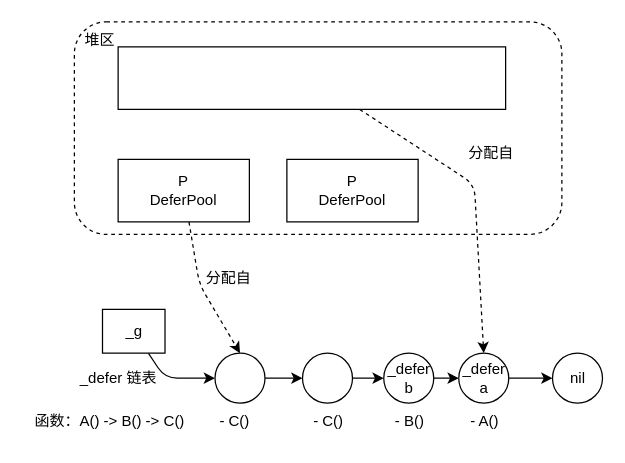
This 625x463 diagram has some shape labels left out. Here are the shapes that lost their labels. From the top down, the centre of each, then its label:
At (x=311, y=77): "global DeferPool".
At (x=239, y=377): "_defer c2".
At (x=326, y=377): "_defer c1".
